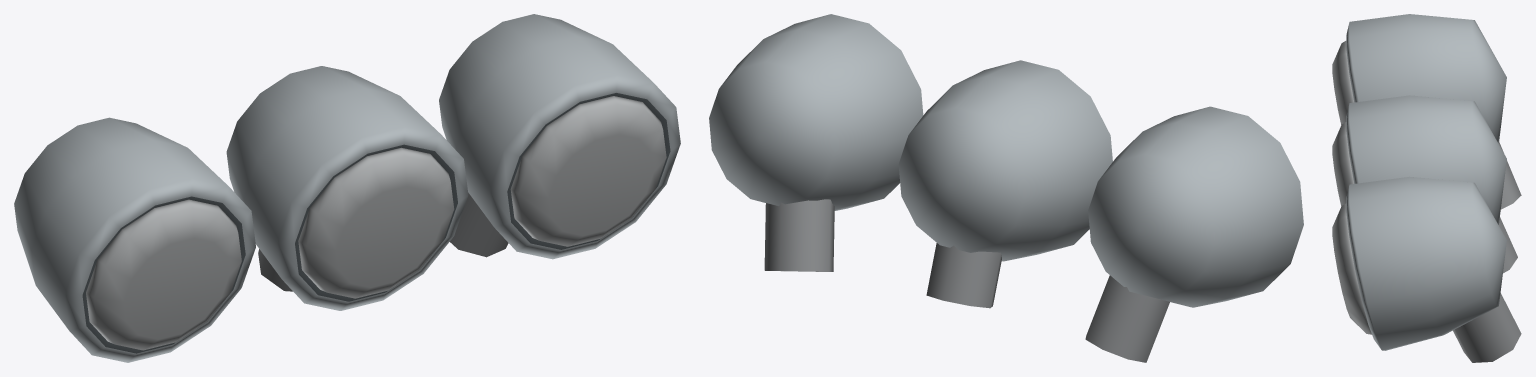
Rendered from Car_08_FogLight.fbx.
3 views of the same model, side by side, from view 1: azimuth 30°, elevation 25°; view 2: azimuth 150°, elevation 25°; view 3: azimuth 270°, elevation 25° (orthographic). The views are drawn at different scales.
Visible parts, largest first — view 1: Car_08_FogLight; view 2: Car_08_FogLight; view 3: Car_08_FogLight.
Part boxes in pixels (x1,y1,x2,y2): Car_08_FogLight: [14, 14, 680, 362]; Car_08_FogLight: [709, 14, 1303, 362]; Car_08_FogLight: [1332, 14, 1521, 362].
Bounding box in the file's own units: 86.17 × 29.19 × 31.19.
